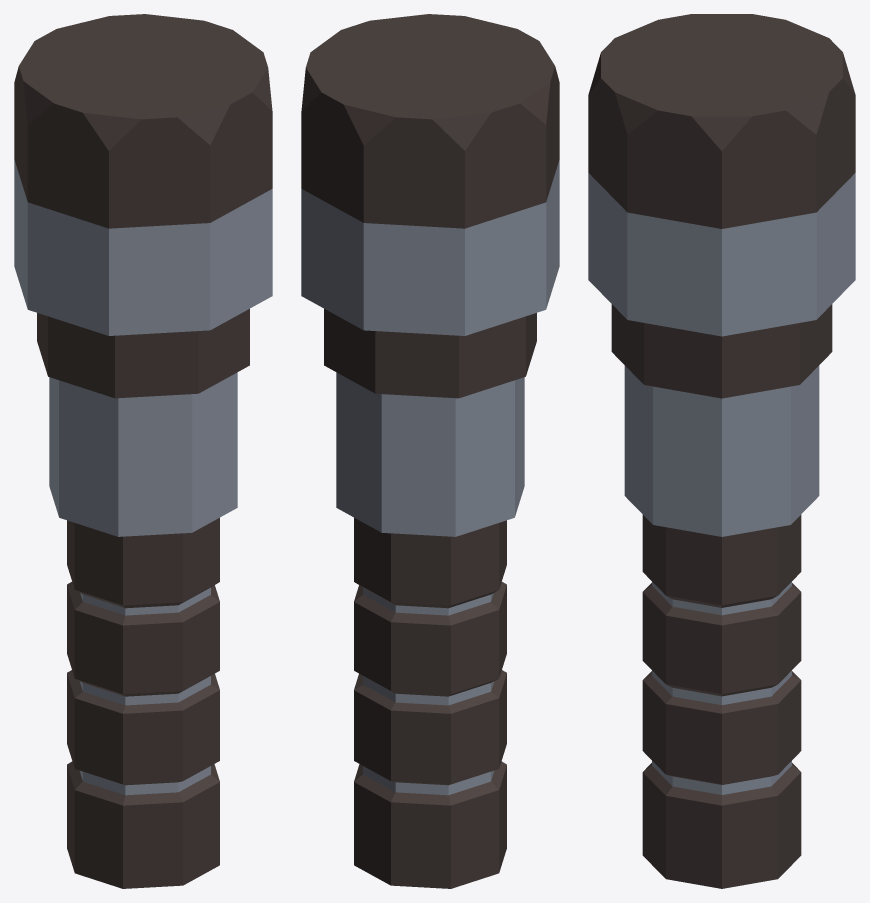
Rendered from Column_1_1.fbx.
3 renders of one model, left to right at view 1: azimuth 30°, elevation 25°; view 2: azimuth 150°, elevation 25°; view 3: azimuth 270°, elevation 25°, orthographic.
Parts seen in each view (by area): view 1: Column_1_1; view 2: Column_1_1; view 3: Column_1_1.
Boxes of the visible parts, x1=… form: Column_1_1: x1=14, y1=14, x2=272, y2=888; Column_1_1: x1=301, y1=14, x2=559, y2=888; Column_1_1: x1=588, y1=14, x2=855, y2=888.
Size of the model in its own units: 0.9938 by 3.24 by 0.9938.
